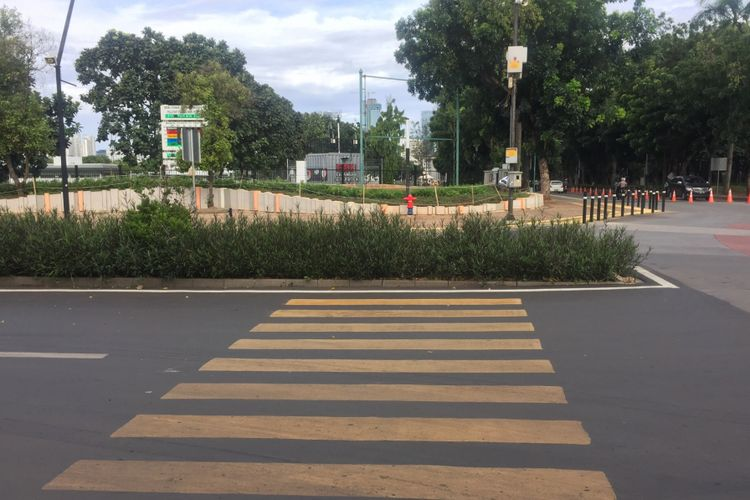bollard: (580, 190, 588, 225), (590, 189, 597, 228), (602, 192, 609, 219), (611, 191, 617, 218), (621, 191, 626, 217), (686, 191, 696, 204), (726, 188, 734, 204), (708, 187, 714, 206), (662, 191, 666, 211), (672, 191, 678, 202), (652, 192, 655, 212), (632, 193, 634, 216)
firehdyrant: (403, 194, 418, 216)
zebracross: (121, 289, 578, 490)
